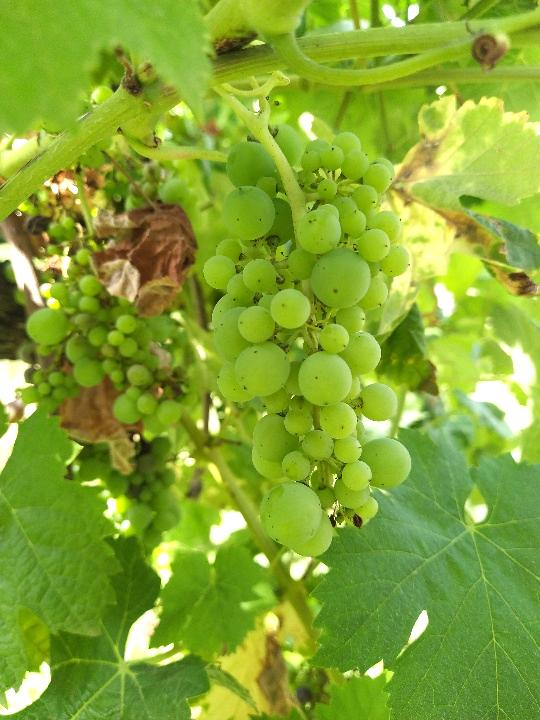grape: (200, 122, 414, 562)
